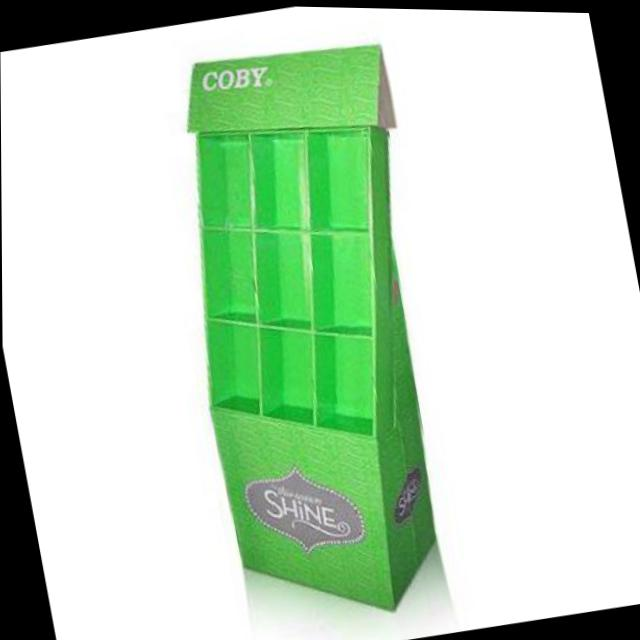box: (123, 2, 517, 640)
